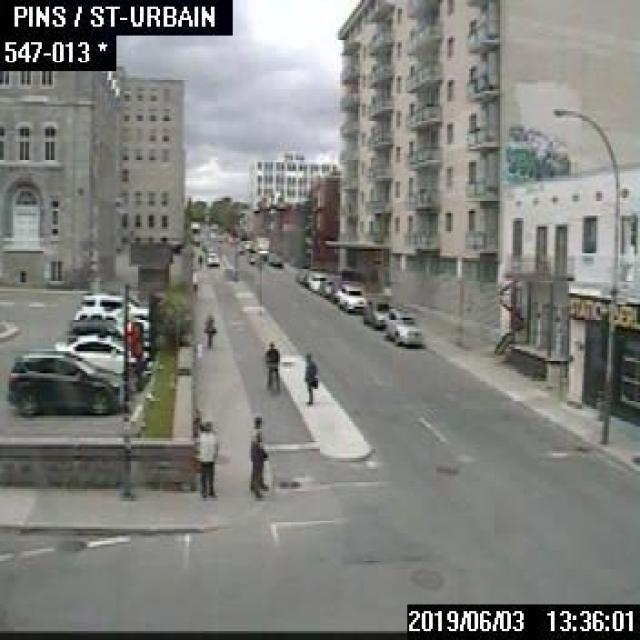pedestrian: (246, 413, 269, 498), (194, 420, 217, 498), (262, 338, 280, 391), (300, 351, 316, 405), (202, 311, 216, 347)
vehicle: (7, 348, 126, 413), (52, 333, 153, 378), (72, 304, 148, 334), (78, 291, 149, 317), (382, 303, 422, 347), (362, 292, 394, 327), (68, 317, 121, 337), (337, 282, 366, 312), (329, 276, 348, 302), (252, 234, 269, 258), (307, 271, 327, 291), (316, 275, 331, 295), (294, 267, 312, 283), (266, 249, 281, 265), (204, 250, 218, 264), (246, 251, 256, 263)
